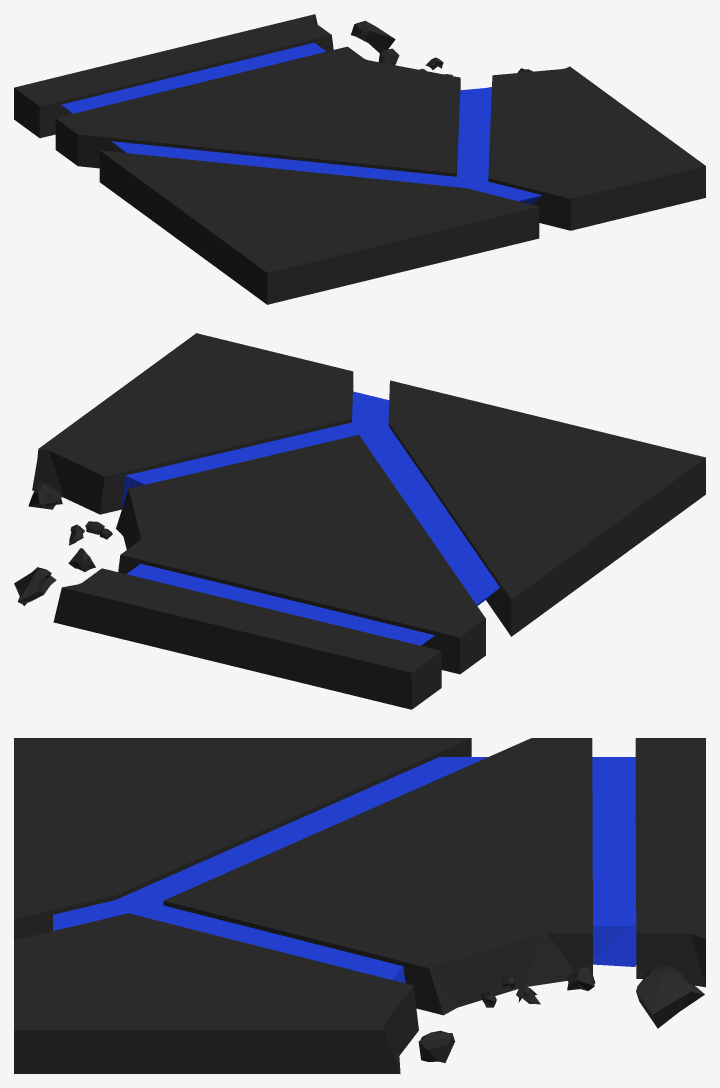
Rendered from LargeSpacePlatform.fbx.
3 renders of one model, top to bottom at view 1: azimuth 30°, elevation 25°; view 2: azimuth 150°, elevation 25°; view 3: azimuth 270°, elevation 25°, orthographic. The views are drawn at different scales.
Visible parts, largest first — view 1: Cube_cell, Cube; view 2: Cube_cell, Cube; view 3: Cube_cell, Cube.
Boxes of the visible parts, x1=… form: Cube_cell: x1=14, y1=14, x2=705, y2=304; Cube: x1=61, y1=42, x2=542, y2=204; Cube_cell: x1=14, y1=333, x2=705, y2=709; Cube: x1=121, y1=391, x2=499, y2=645; Cube_cell: x1=14, y1=738, x2=705, y2=1073; Cube: x1=53, y1=757, x2=636, y2=983.
Bounding box in the file's own units: 3041 × 275 × 3041.
